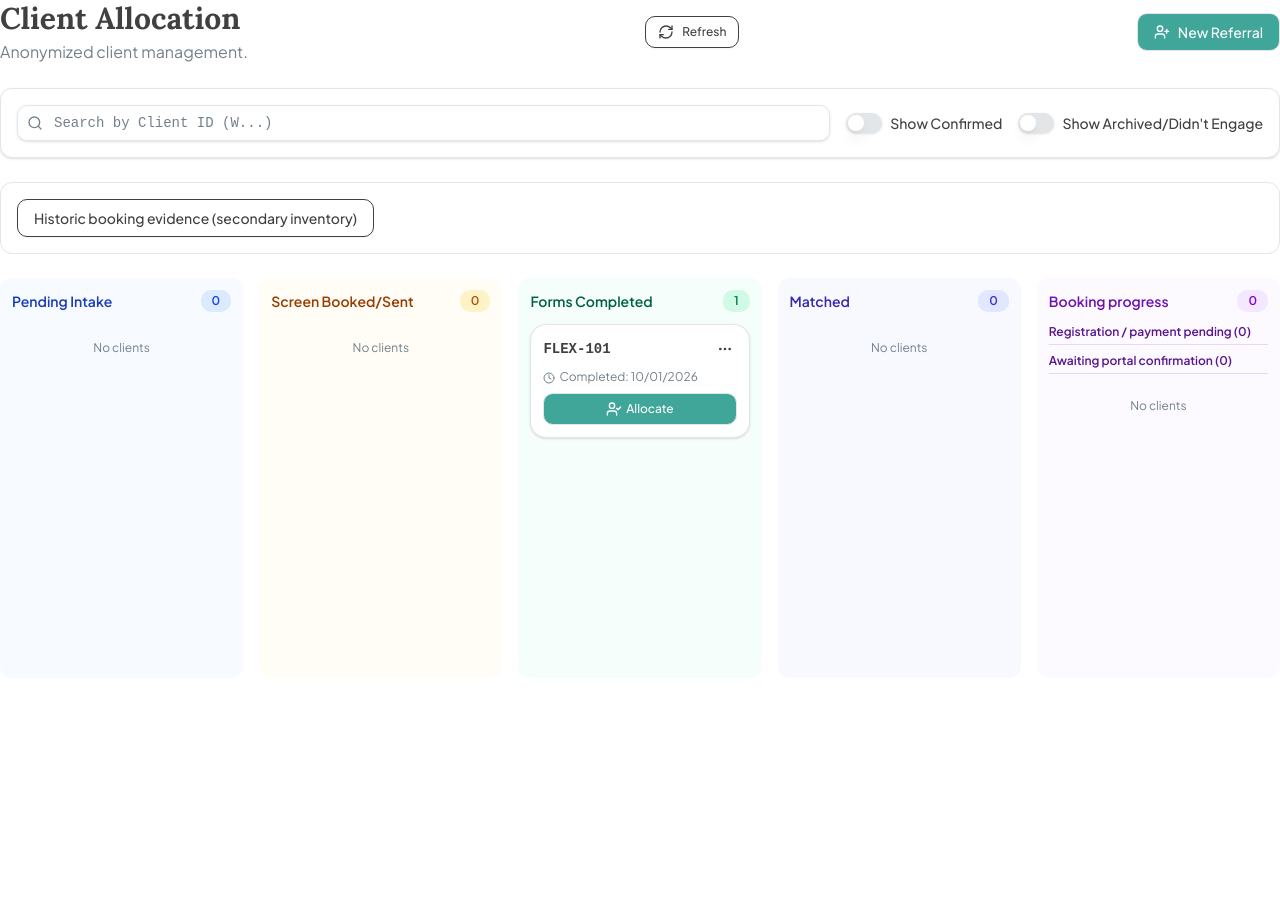
Scenario: Clients page compact board integration › requires payment reconciliation before offering new flexible booking actions (flexible booking disabled)
This screenshot has width=1280, height=900.
Later steps or results of the test are not shown.
Click the 4th button: (725, 349) x1=713 y1=337 x2=737 y2=361
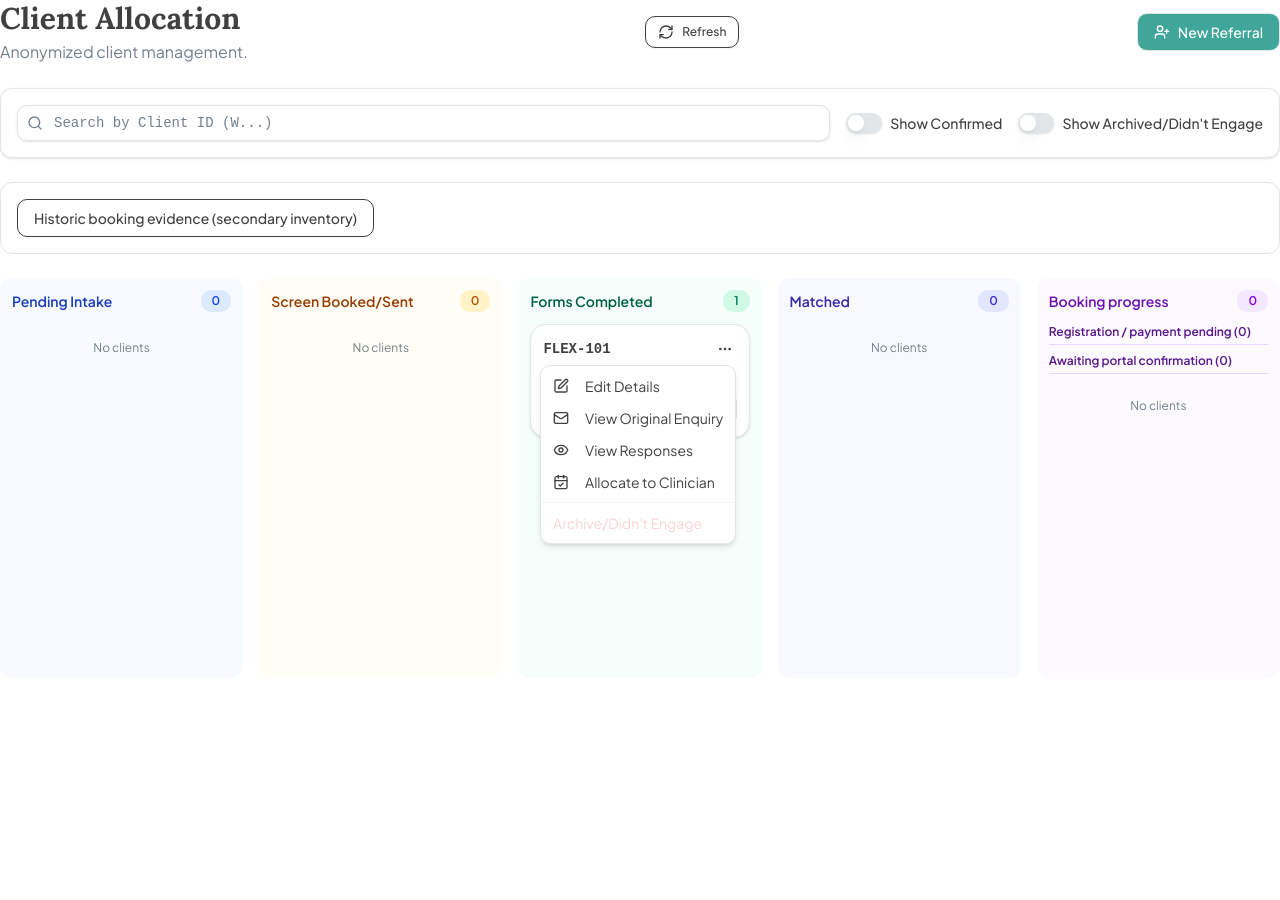
Click the menu item "Allocate to Clinician": (634, 482) x1=553 y1=473 x2=715 y2=491
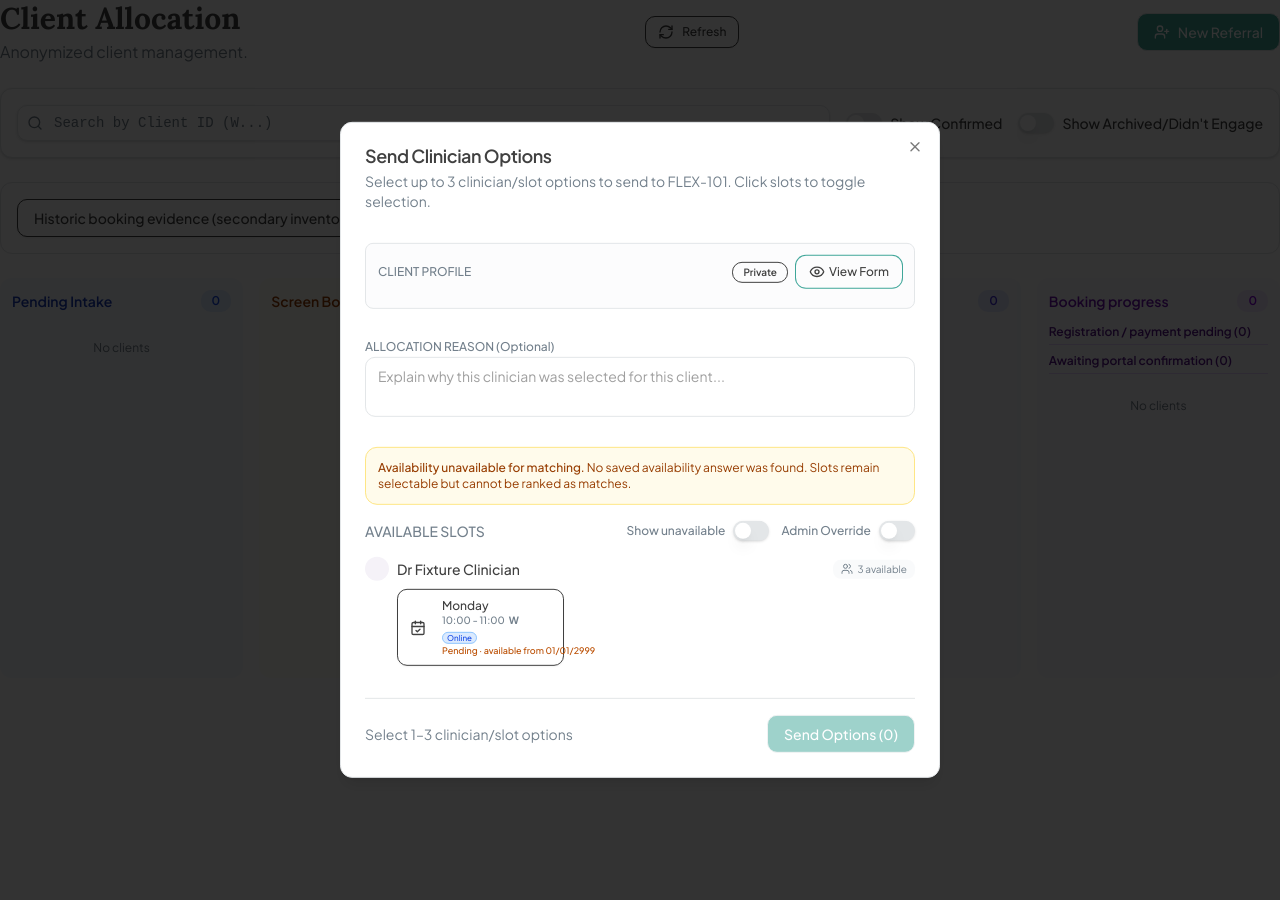
Now the heading "Send Clinician Options" is shown, box x1=365 y1=144 x2=552 y2=167
